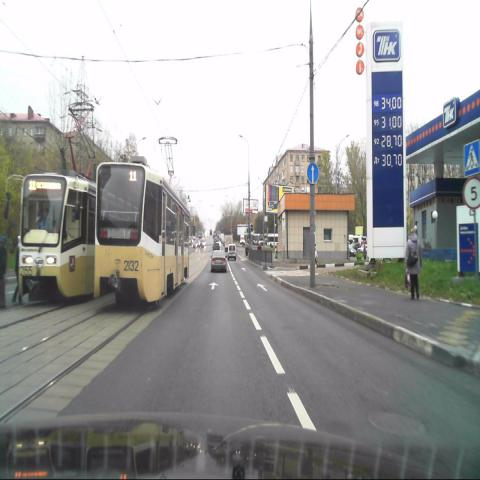4_1_1: (307, 163, 319, 183)
5_19_1: (464, 140, 480, 176)
